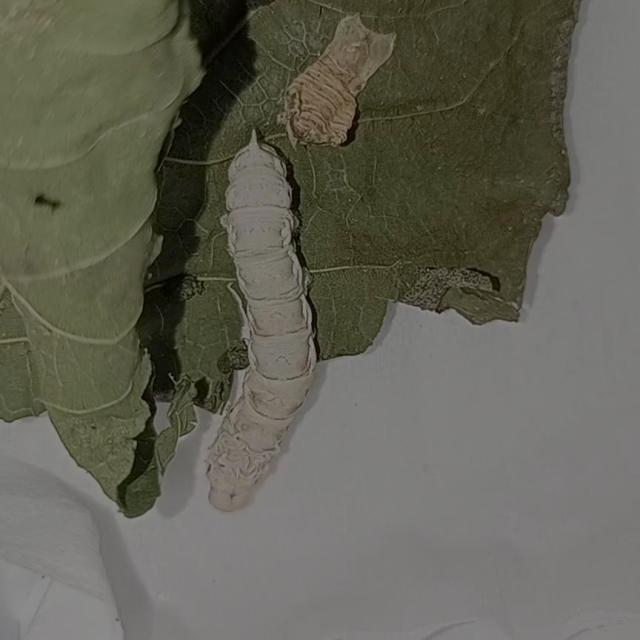Healthy: (181, 117, 355, 532)
